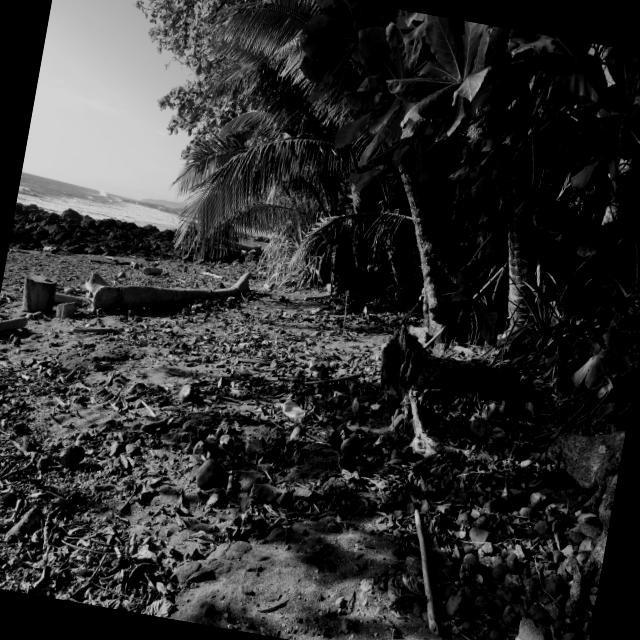Bottle cap: (300, 417, 303, 421)
Clear plastic bottle: (281, 399, 304, 422)
